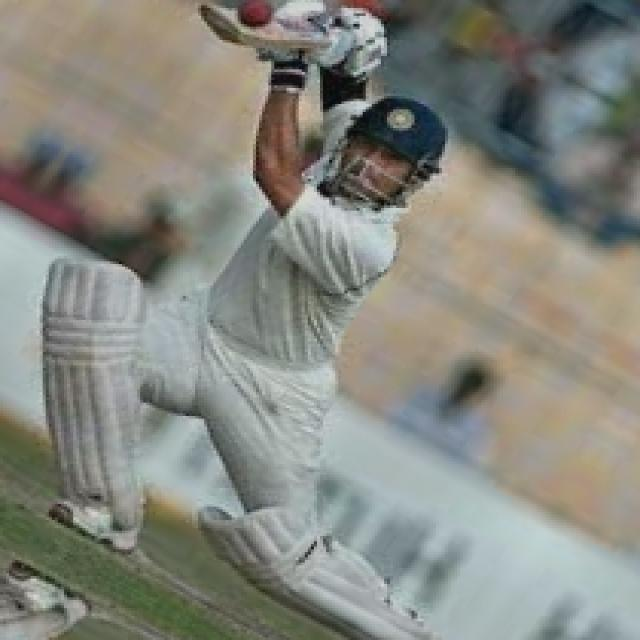toe: (192, 0, 266, 53)
